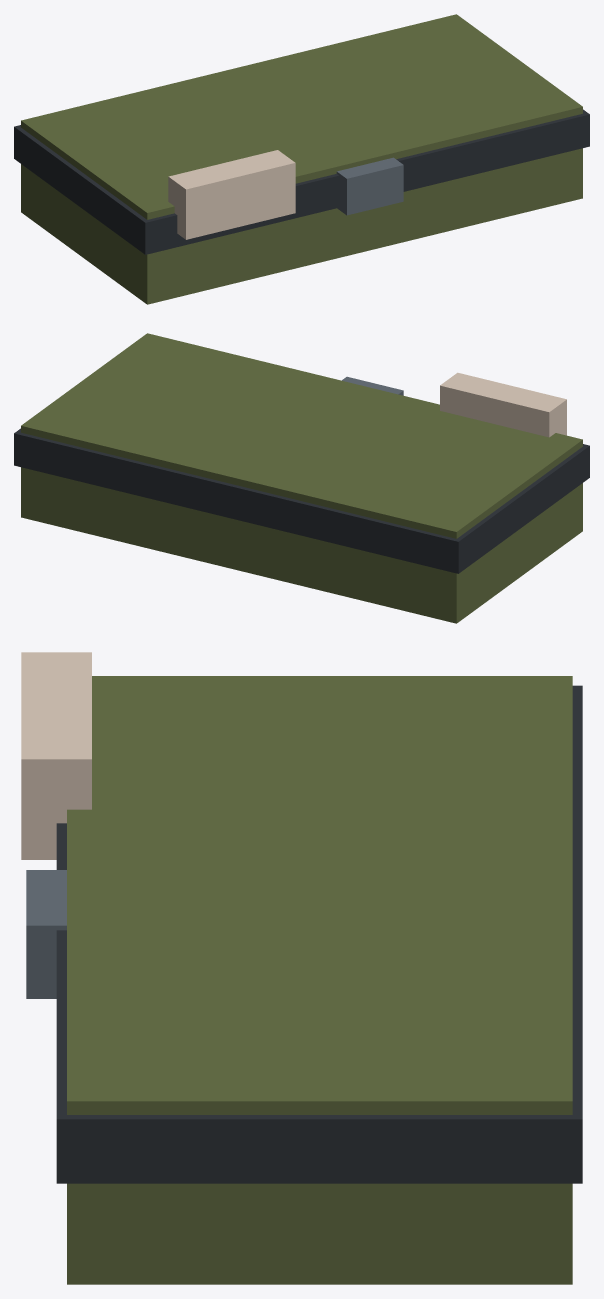
The model's file is inf_v2_runner_lower_torso.fbx.
3 renders of one model, top to bottom at view 1: azimuth 30°, elevation 25°; view 2: azimuth 150°, elevation 25°; view 3: azimuth 270°, elevation 25°, orthographic. The views are drawn at different scales.
Visible parts, largest first — view 1: inf_v2_runner_lower_torso; view 2: inf_v2_runner_lower_torso; view 3: inf_v2_runner_lower_torso.
Boxes of the visible parts, box(x1,y1,x2,y2) form: inf_v2_runner_lower_torso: box(14, 14, 589, 304); inf_v2_runner_lower_torso: box(14, 333, 589, 623); inf_v2_runner_lower_torso: box(21, 652, 582, 1284).
Bounding box in the file's own units: 203 × 51 × 111.
